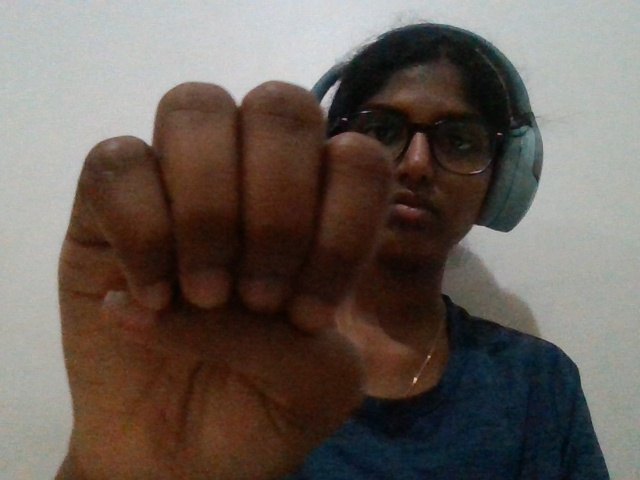E: (36, 51, 411, 471)
